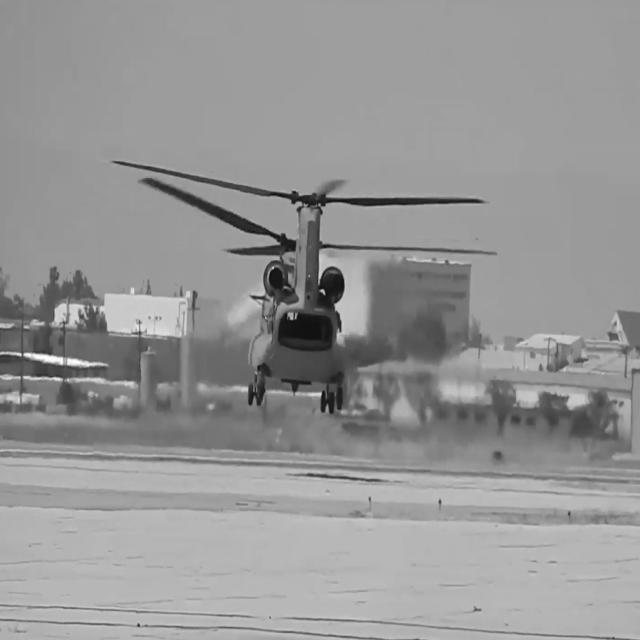Helicopter: (116, 162, 476, 414)
